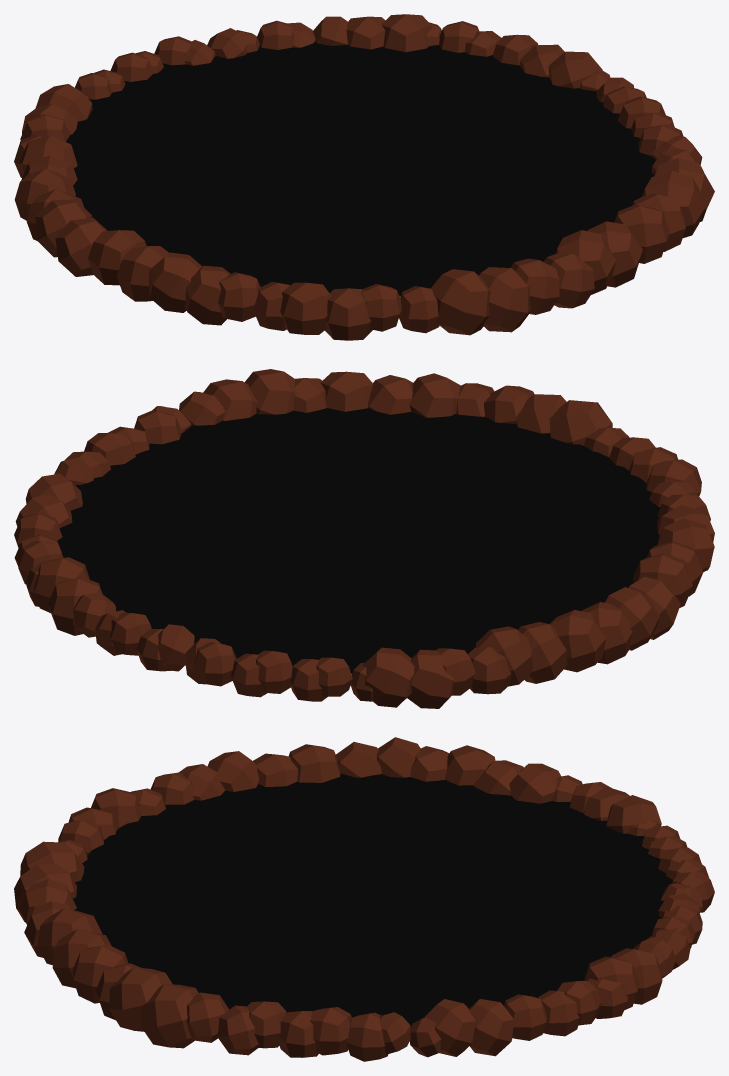
Rendered from Hole.fbx.
The picture shows the model from 3 angles, top to bottom: view 1: azimuth 30°, elevation 25°; view 2: azimuth 150°, elevation 25°; view 3: azimuth 270°, elevation 25°; orthographic projection. The views are drawn at different scales.
Parts seen in each view (by area): view 1: Hole; view 2: Hole; view 3: Hole.
Boxes of the visible parts, x1=… form: Hole: x1=14, y1=14, x2=714, y2=340; Hole: x1=14, y1=369, x2=714, y2=708; Hole: x1=14, y1=737, x2=714, y2=1061.
Size of the model in its own units: 158 by 15.99 by 163.
